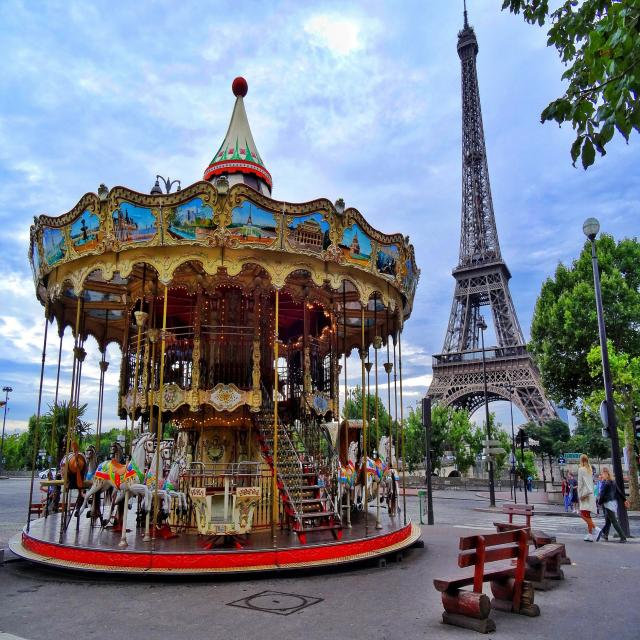body: (598, 466, 630, 543), (577, 453, 603, 542), (160, 340, 193, 390), (75, 472, 91, 528), (236, 426, 250, 485), (185, 429, 198, 487), (40, 472, 56, 518), (568, 472, 580, 514), (562, 476, 574, 513), (596, 474, 606, 518), (593, 479, 600, 518), (402, 452, 428, 462), (436, 452, 456, 460), (516, 475, 523, 492), (528, 474, 532, 492), (360, 450, 368, 458), (476, 454, 482, 461), (24, 466, 28, 474), (526, 475, 529, 481), (42, 466, 45, 472)
